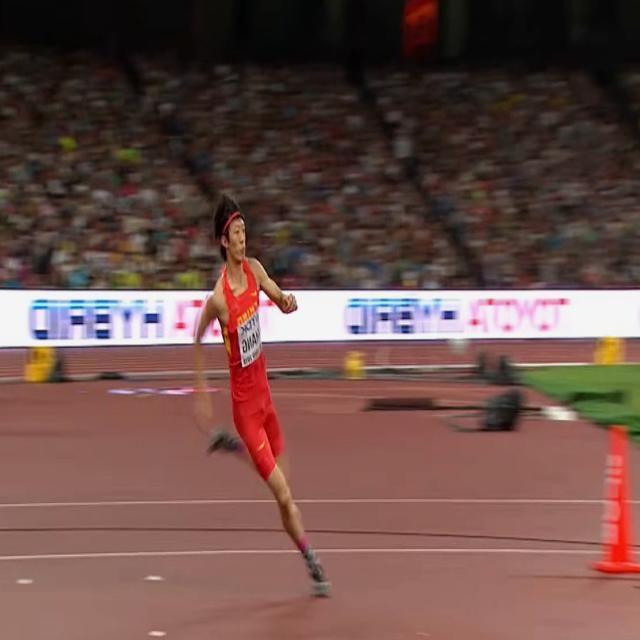run: (192, 191, 332, 597)
